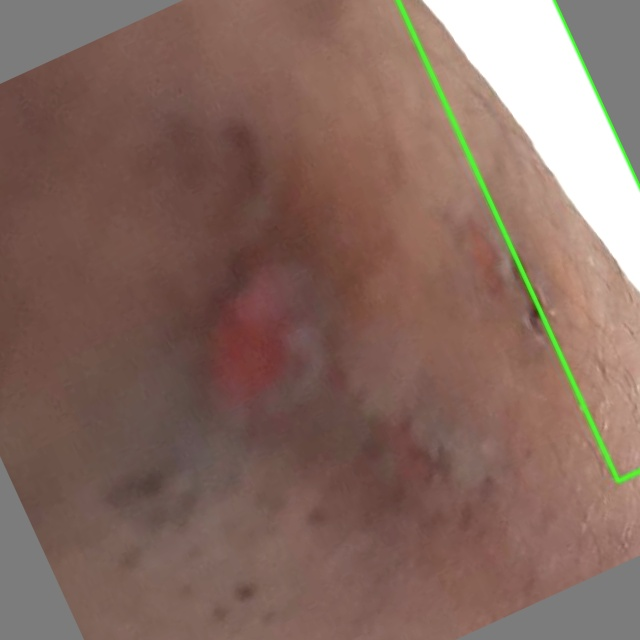Atopic Dermatitis: (398, 0, 639, 480)
